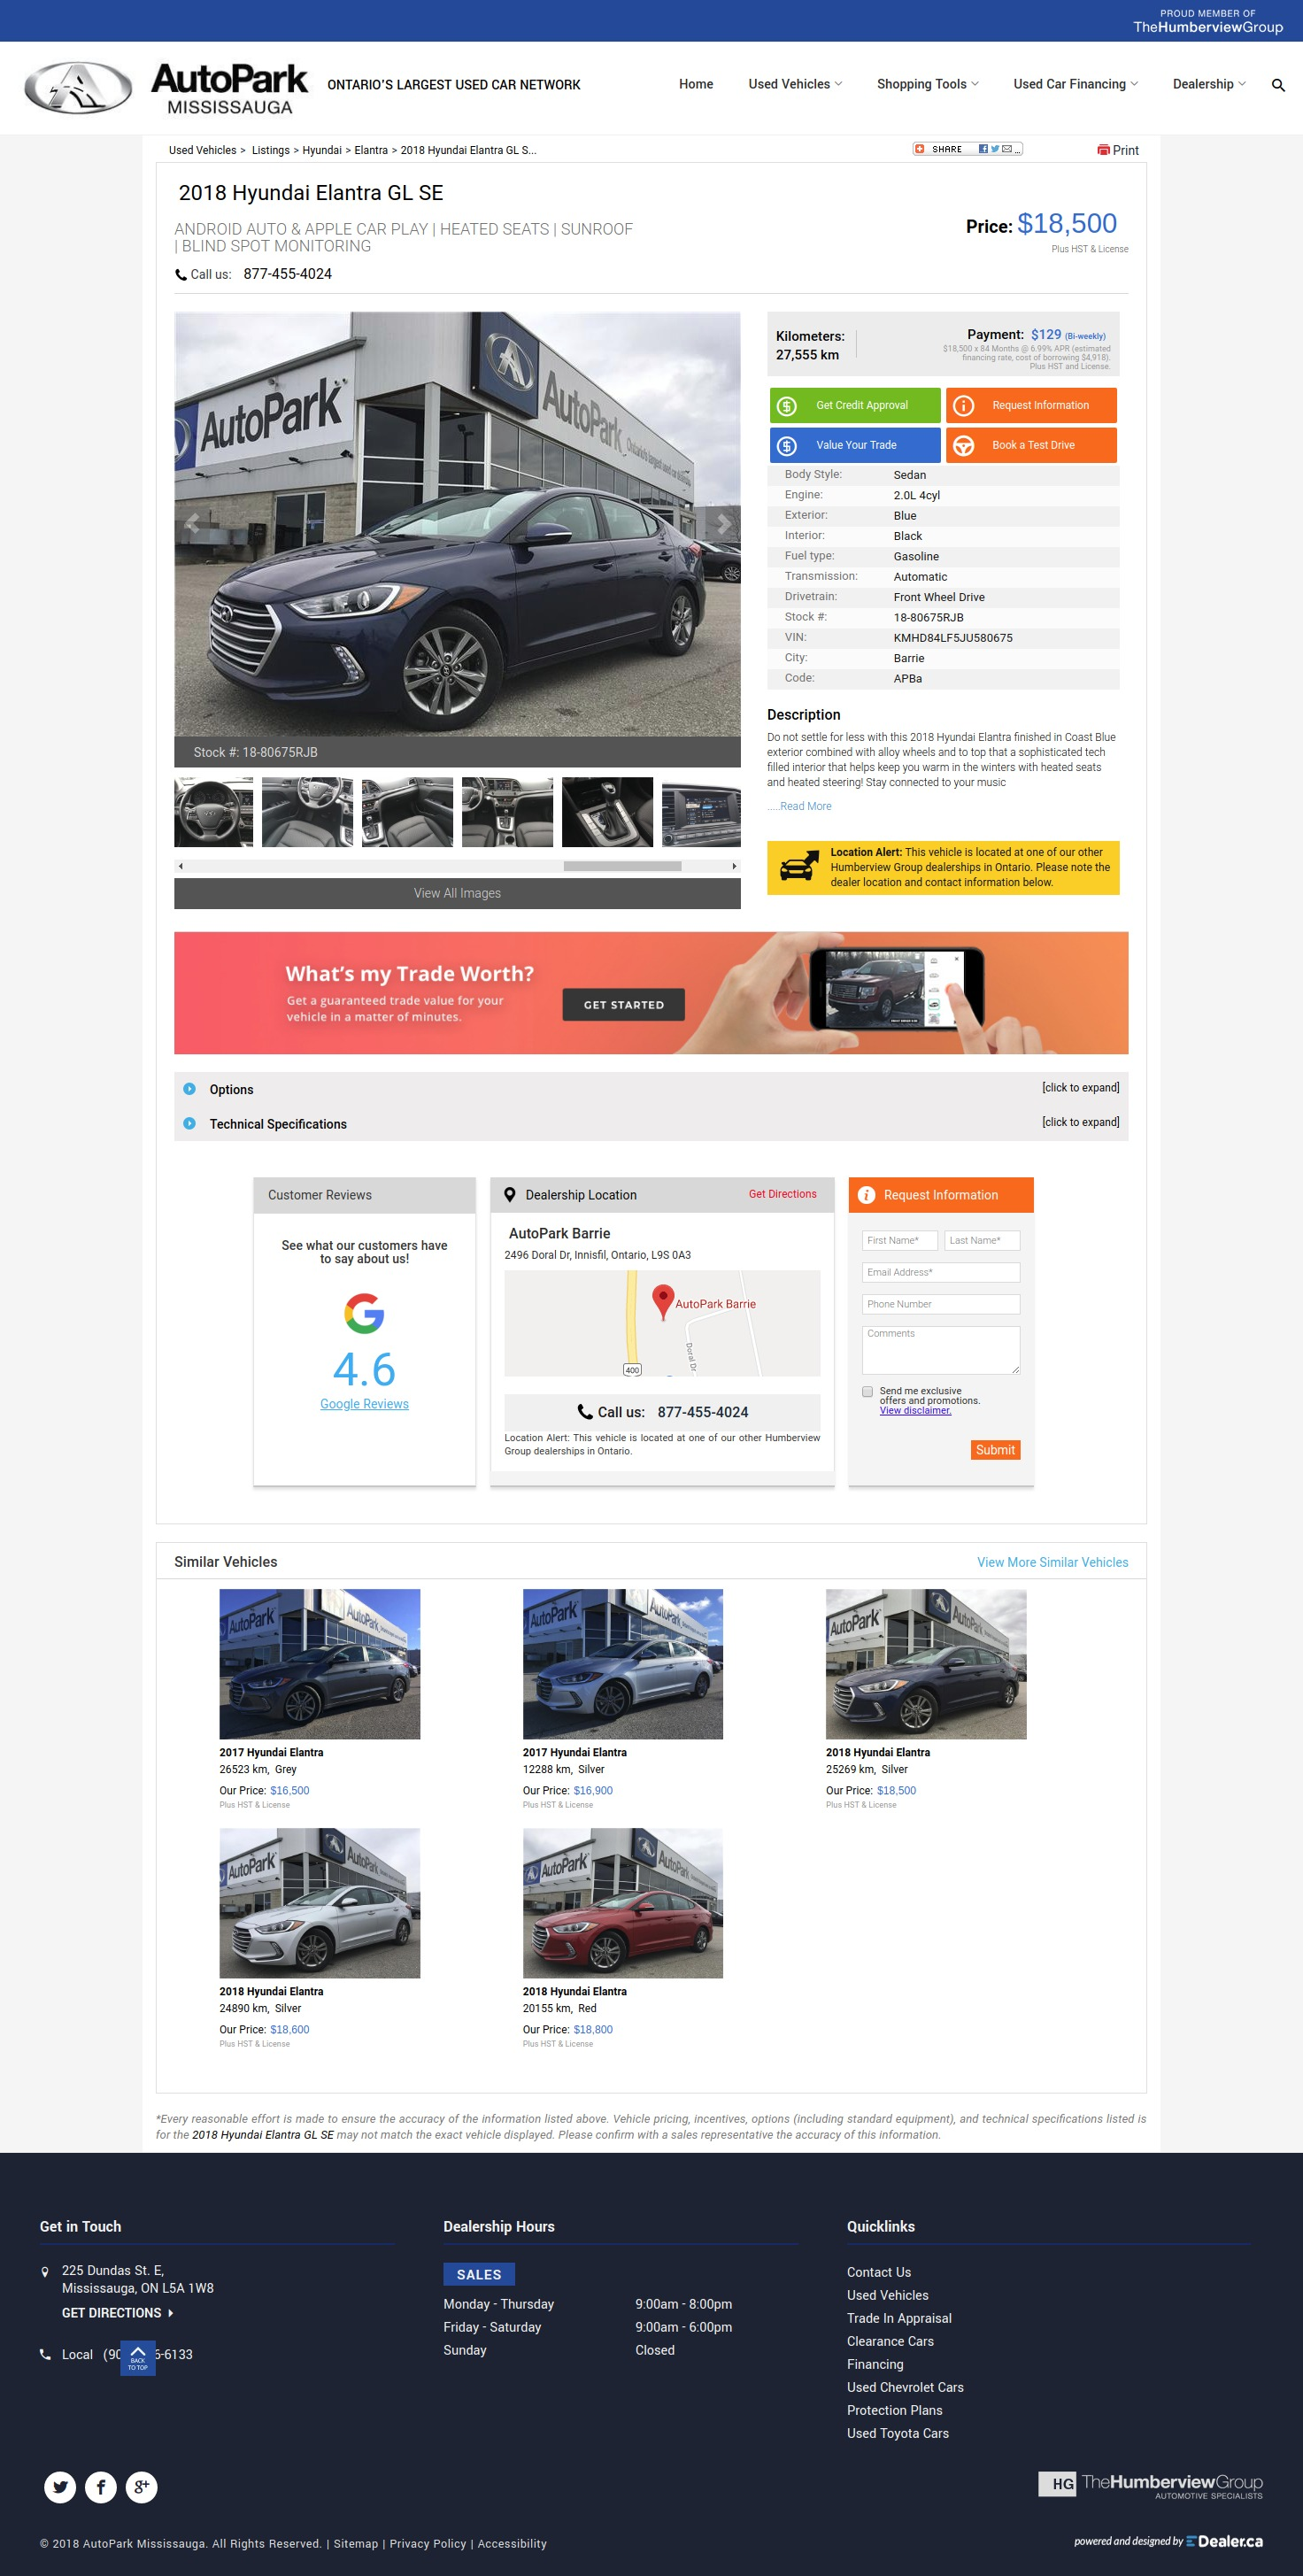car: (705, 507, 743, 545)
